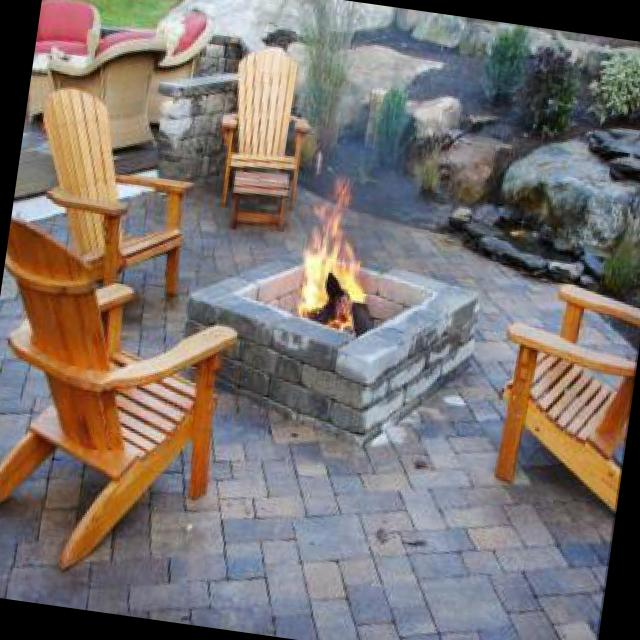Fire: (301, 204, 374, 326)
